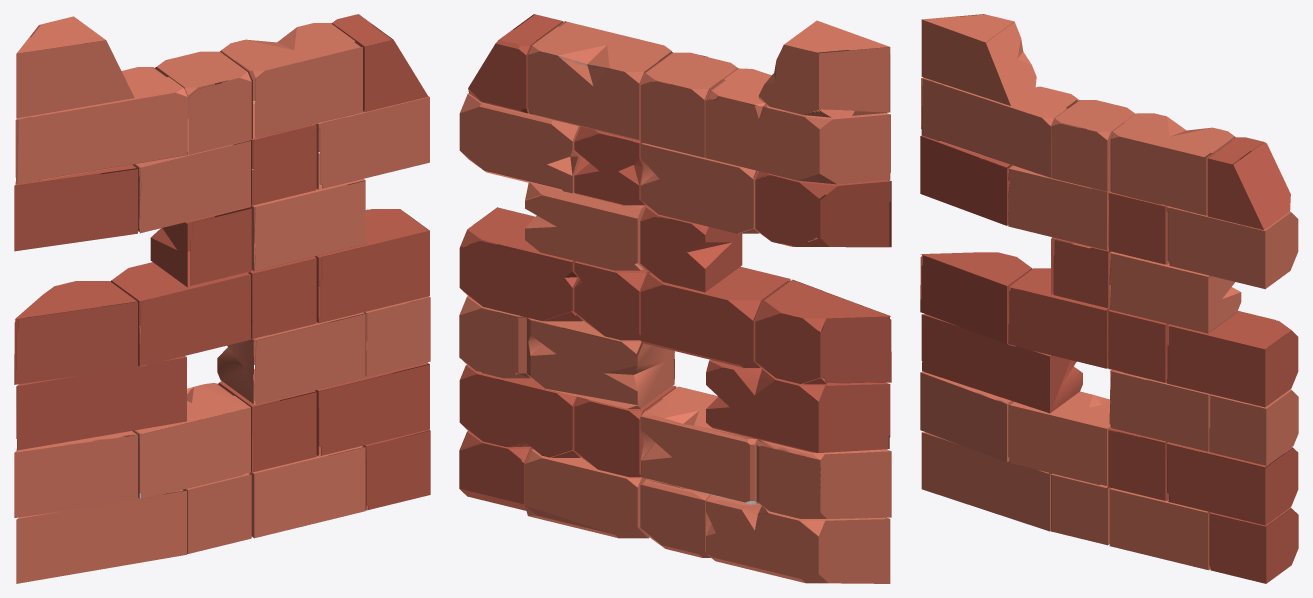
File: Muro.fbx
3 renders of one model, left to right at view 1: azimuth 30°, elevation 25°; view 2: azimuth 150°, elevation 25°; view 3: azimuth 330°, elevation 25°, orthographic. The views are drawn at different scales.
Parts seen in each view (by area): view 1: Pared.002; view 2: Pared.002; view 3: Pared.002.
Boxes of the visible parts, x1,y1,x2,y2 form: Pared.002: [14, 14, 430, 583]; Pared.002: [459, 14, 891, 583]; Pared.002: [920, 14, 1298, 583].
Size of the model in its own units: 760 by 955 by 121.
